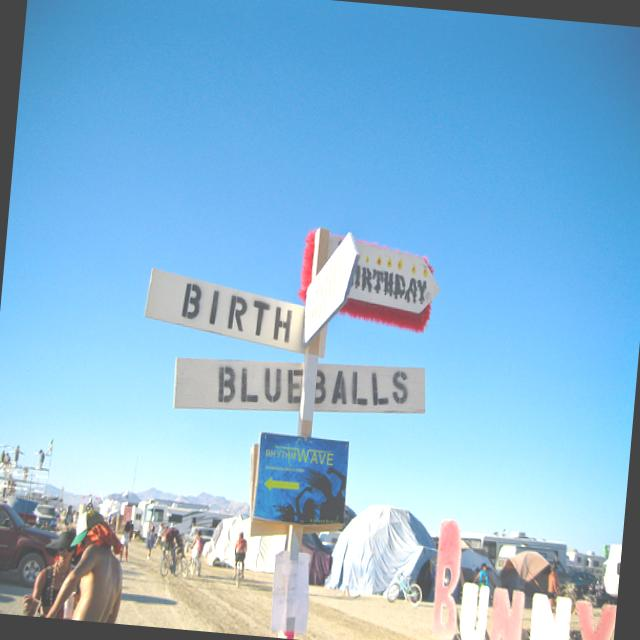Vehicle: (0, 496, 60, 588), (182, 526, 215, 556), (31, 502, 60, 530), (18, 512, 38, 526)
